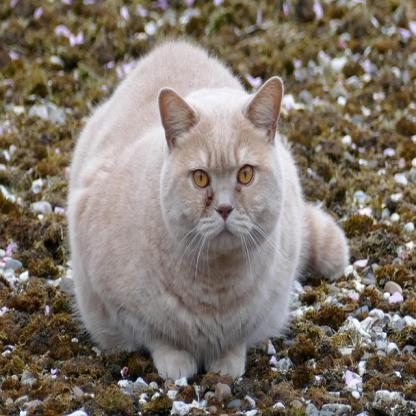cat: (69, 38, 349, 381)
